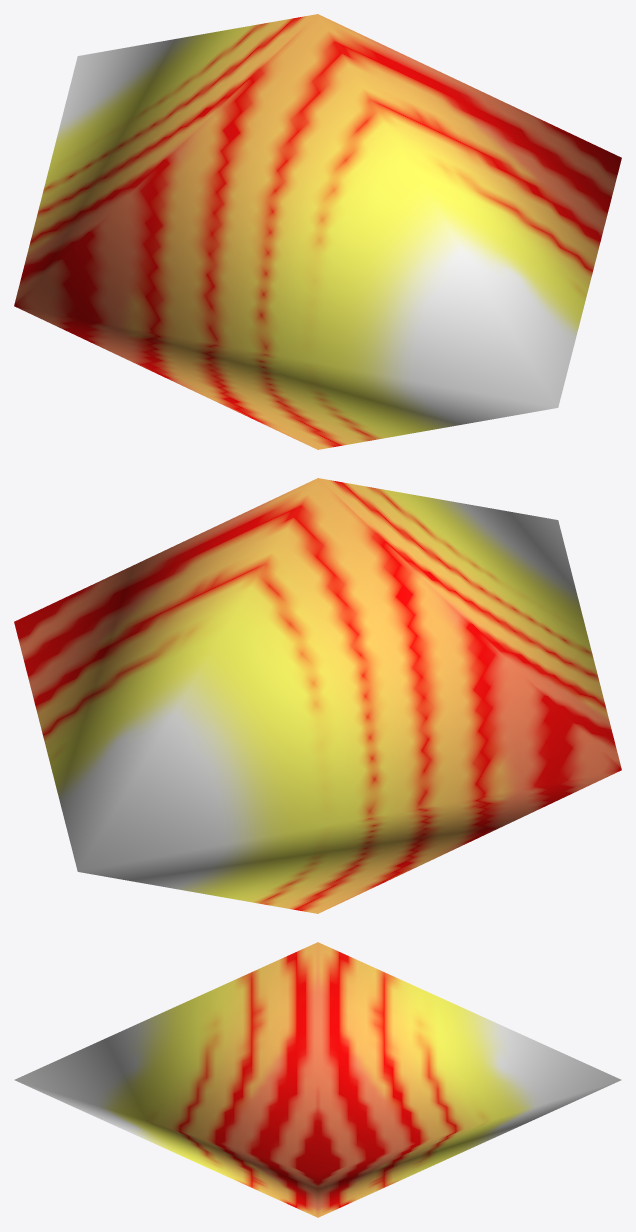
File: Model_LingXing.FBX
3 views of the same model, one above another, from view 1: azimuth 30°, elevation 25°; view 2: azimuth 150°, elevation 25°; view 3: azimuth 270°, elevation 25° (orthographic). The views are drawn at different scales.
Parts seen in each view (by area): view 1: p_LingXing; view 2: p_LingXing; view 3: p_LingXing.
Part boxes in pixels (<box>): p_LingXing: <box>14,14,621,449</box>; p_LingXing: <box>14,478,621,913</box>; p_LingXing: <box>14,942,621,1217</box>.
Bounding box in the file's own units: 0.4076 × 0.2793 × 0.558.
